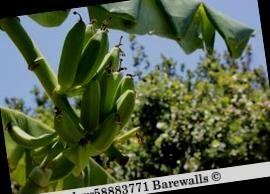Banana Unripe: (0, 12, 163, 193)
